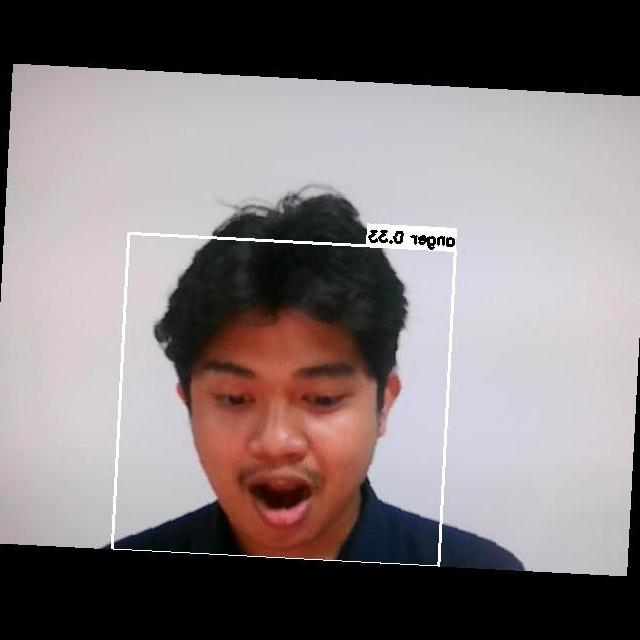Surprised: (180, 331, 393, 551)
